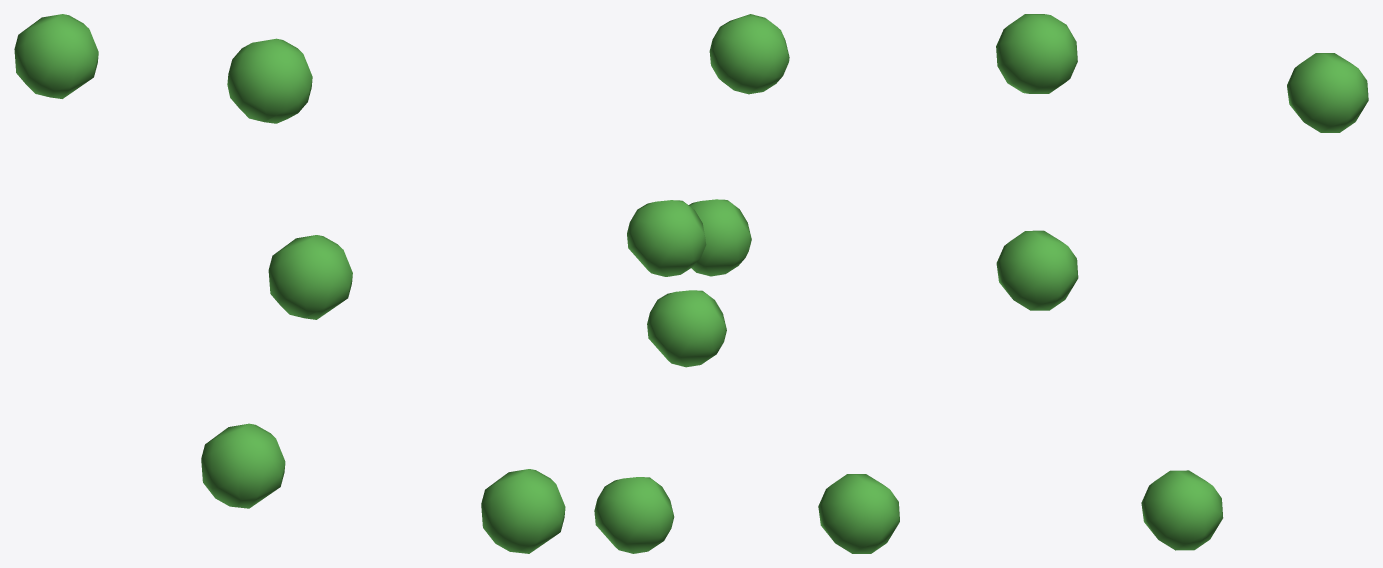
The model's file is linfatico-mastoid-nodes-r.glb.
The picture shows the model from 3 angles, left to right: view 1: azimuth 30°, elevation 25°; view 2: azimuth 150°, elevation 25°; view 3: azimuth 270°, elevation 25°; orthographic projection. The views are drawn at different scales.
Parts seen in each view (by area): view 1: Mastoid nodes.r; view 2: Mastoid nodes.r; view 3: Mastoid nodes.r.
Part boxes in pixels (bbox=[...]): Mastoid nodes.r: bbox=[14, 14, 565, 553]; Mastoid nodes.r: bbox=[594, 14, 789, 553]; Mastoid nodes.r: bbox=[818, 14, 1368, 553].
Size of the model in its own units: 0.0102 by 0.0175 by 0.0172.
